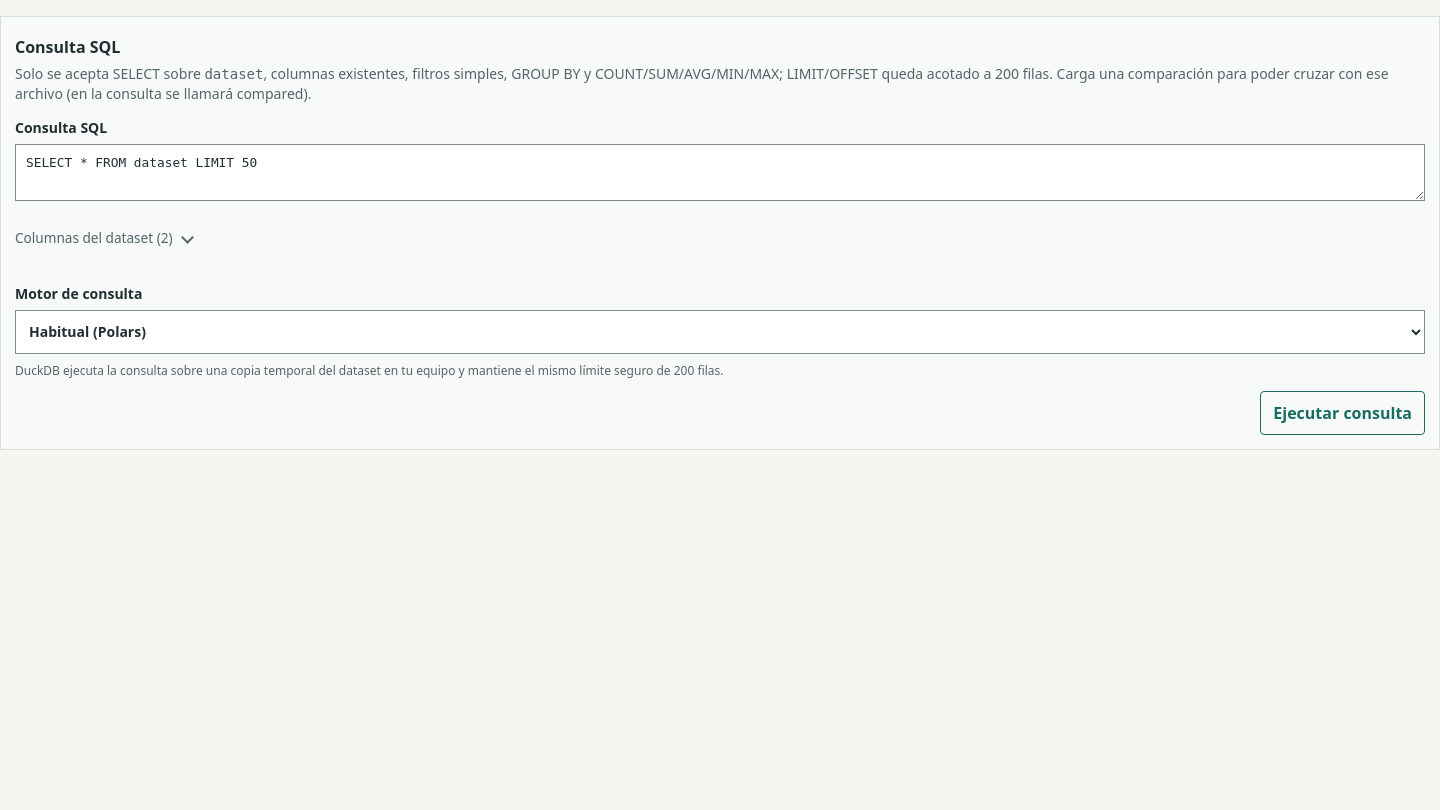
ReviewPhase › permite cancelar una consulta y no pinta una respuesta tardía
The image size is (1440, 810).
Click the button "Ejecutar consulta". click: (1343,413)
box: [1260,391,1425,435]
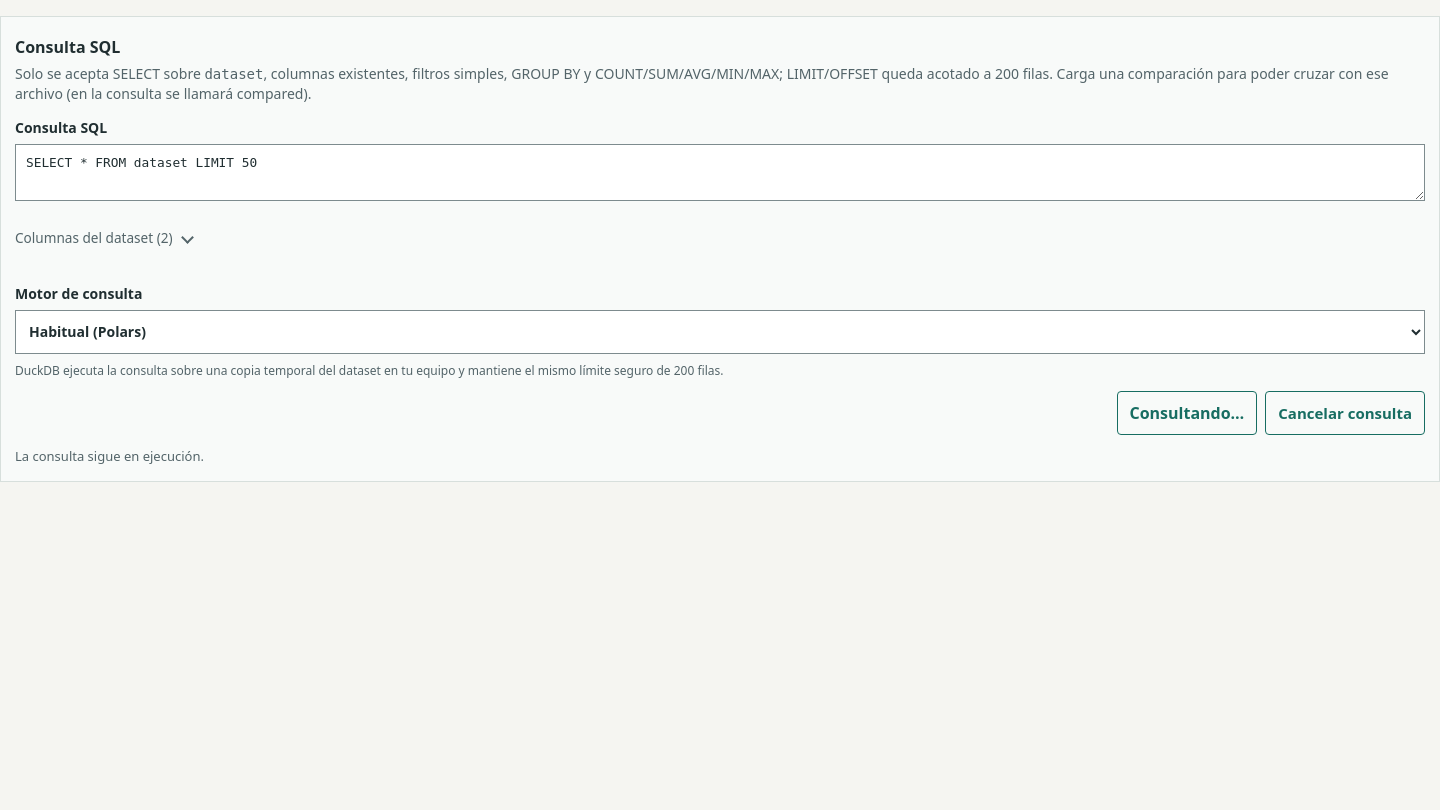
Expected: the button "Cancelar consulta" is enabled
Click the button "Cancelar consulta". click: (1345,413)
box: [1265,391,1425,435]
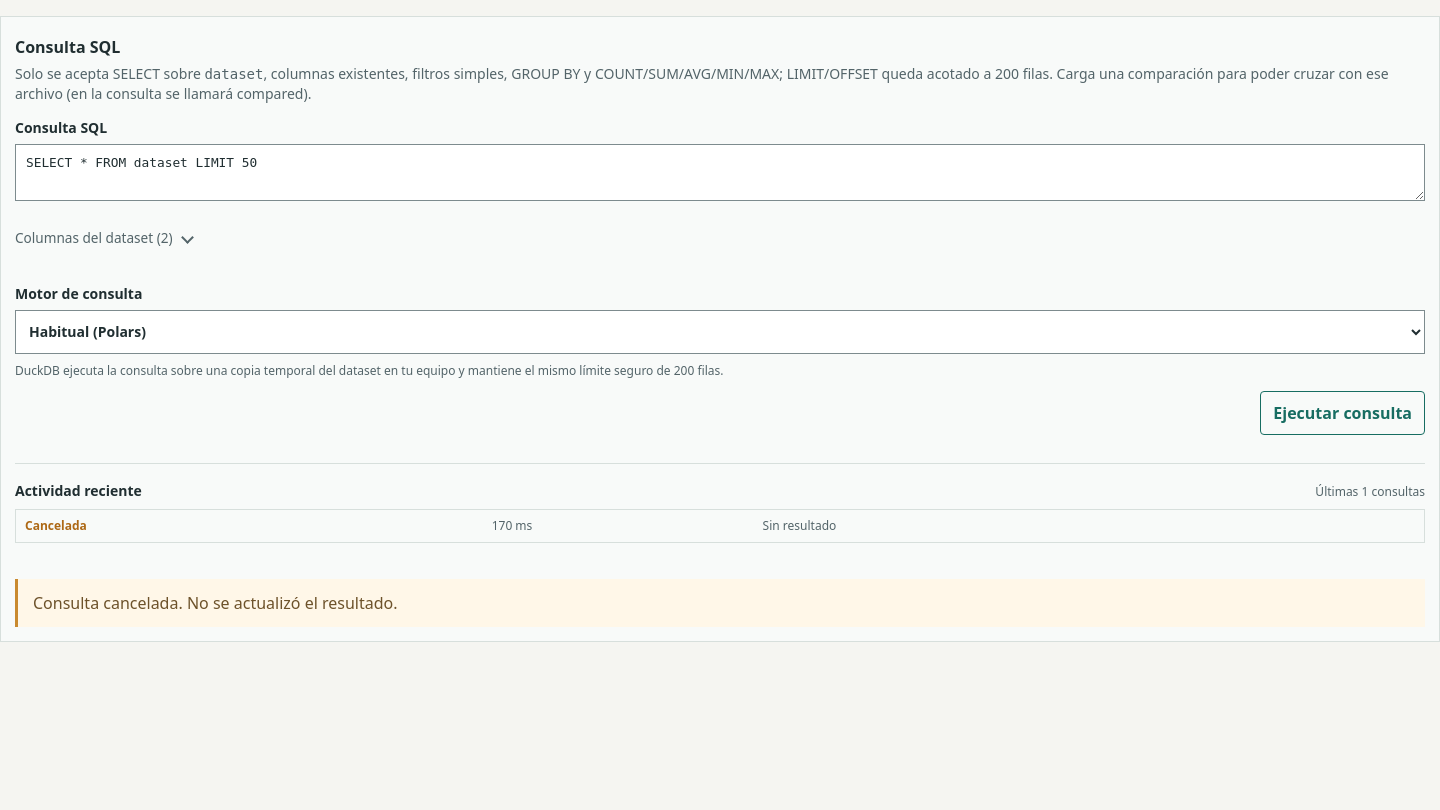
Expected: the message shows "Consulta cancelada", [33,592,398,614]
Expected: the list named "Historial de consultas SQL" shows "Cancelada", [25,517,87,534]
Expected: the message shows "No se actualizó el resultado", [33,592,398,614]
